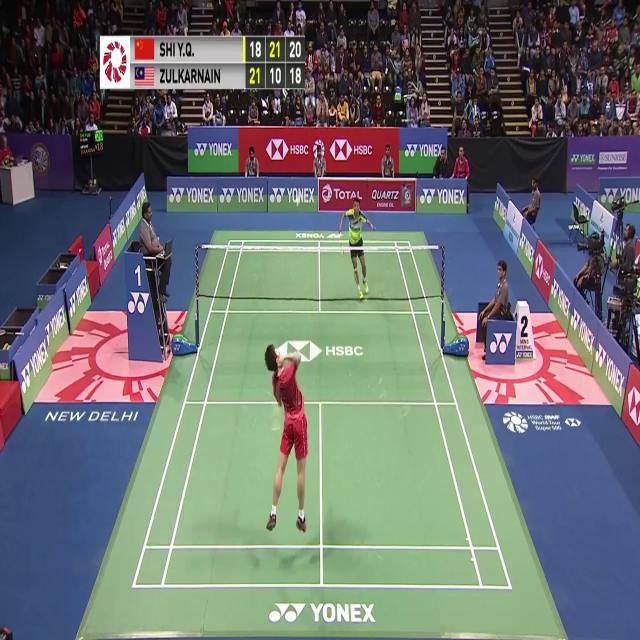Shuttlecock: (294, 197, 301, 208)
